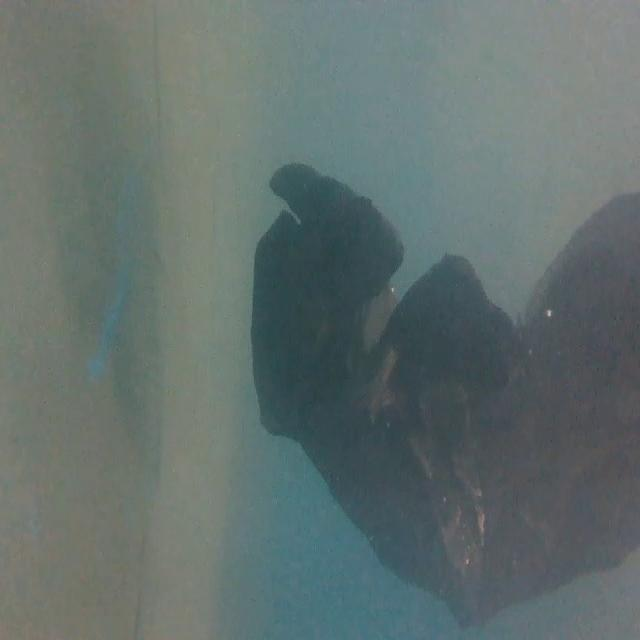plastic bags: (234, 159, 640, 602)
